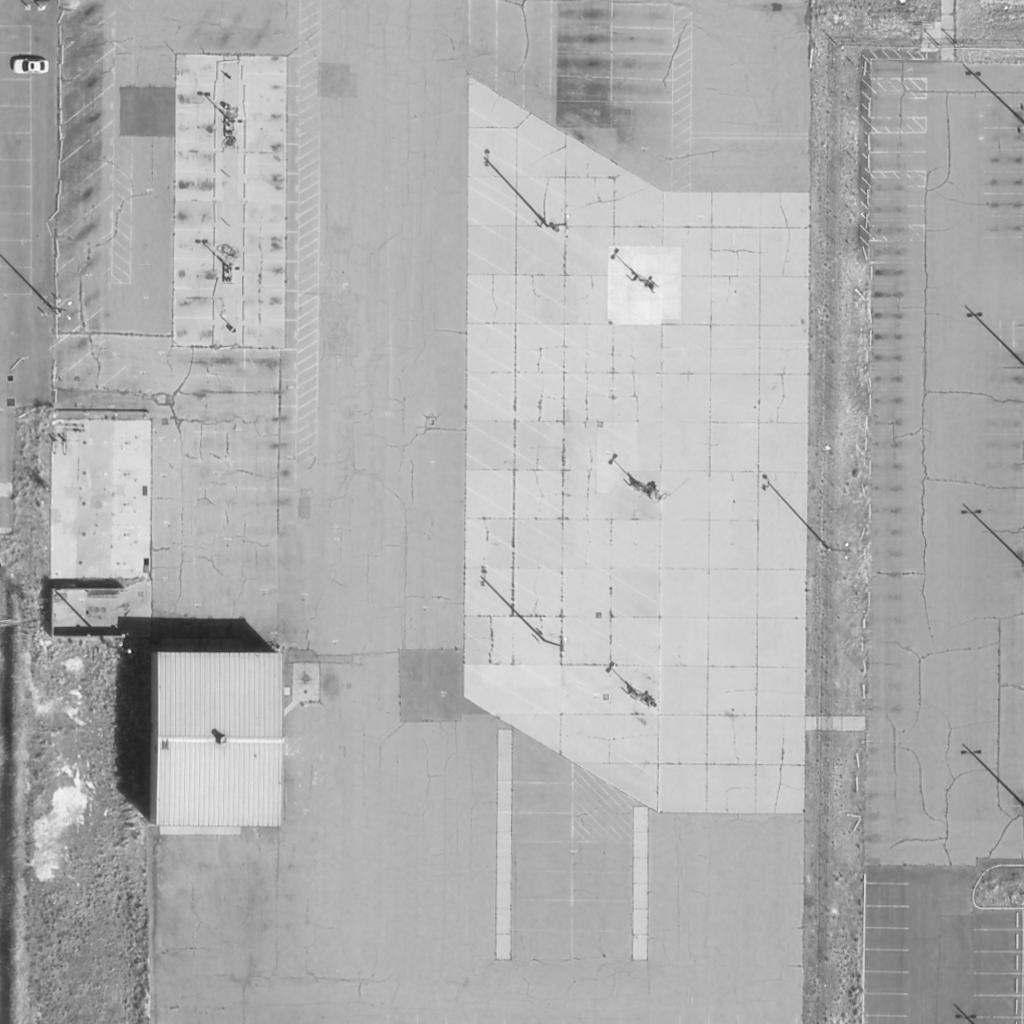vehicle: (13, 60, 49, 74)
